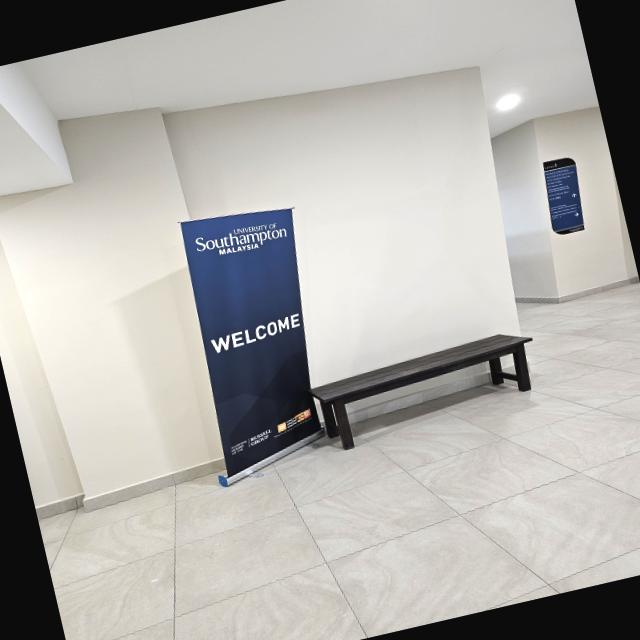footpath: (46, 380, 640, 640)
obstacle: (173, 148, 544, 466)
